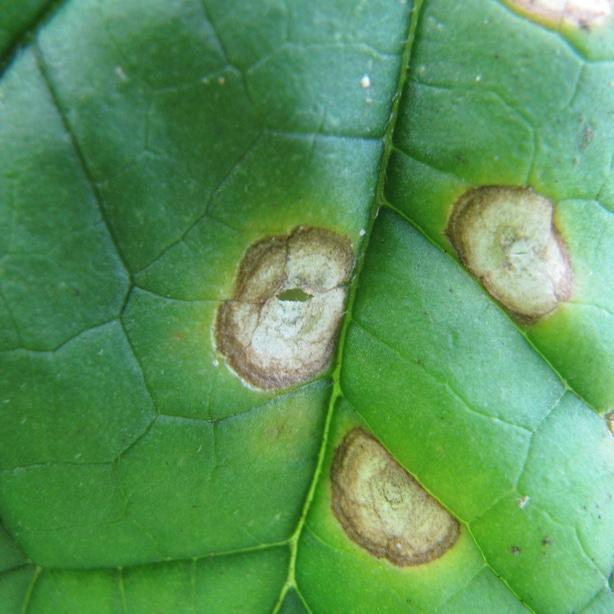black-spot: (189, 147, 603, 614)
